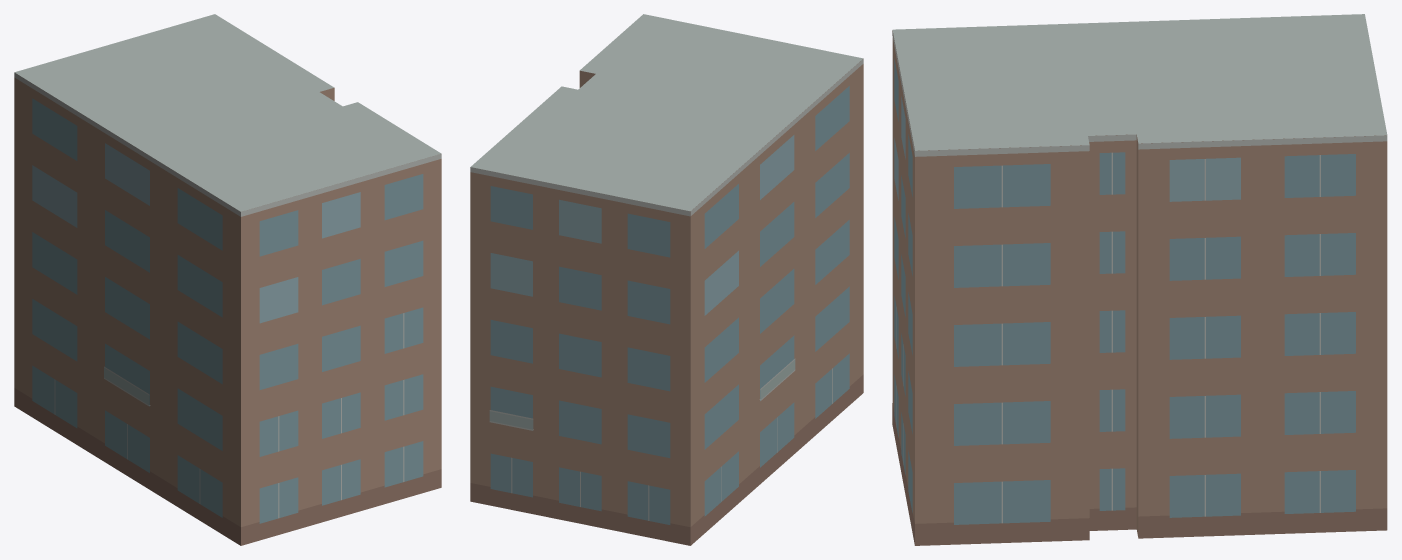
The model's file is survey-upis-32912053.glb.
The picture shows the model from 3 angles, left to right: view 1: azimuth 30°, elevation 25°; view 2: azimuth 150°, elevation 25°; view 3: azimuth 270°, elevation 25°; orthographic projection. The views are drawn at different scales.
Parts seen in each view (by area): view 1: survey-upis-32912053.tmp; view 2: survey-upis-32912053.tmp; view 3: survey-upis-32912053.tmp.
Boxes of the visible parts, x1,y1,x2,y2 form: survey-upis-32912053.tmp: [14, 14, 441, 545]; survey-upis-32912053.tmp: [470, 14, 863, 545]; survey-upis-32912053.tmp: [892, 14, 1387, 545].
Size of the model in its own units: 11.97 by 16.1 by 18.29.
